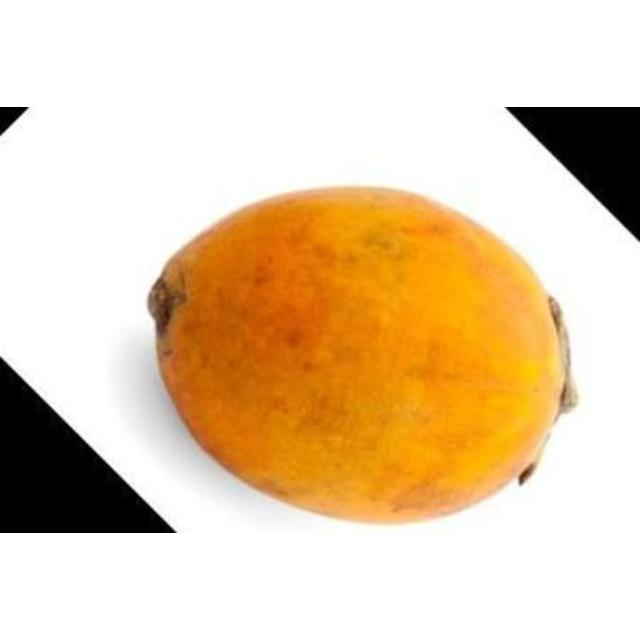good: (145, 187, 577, 529)
